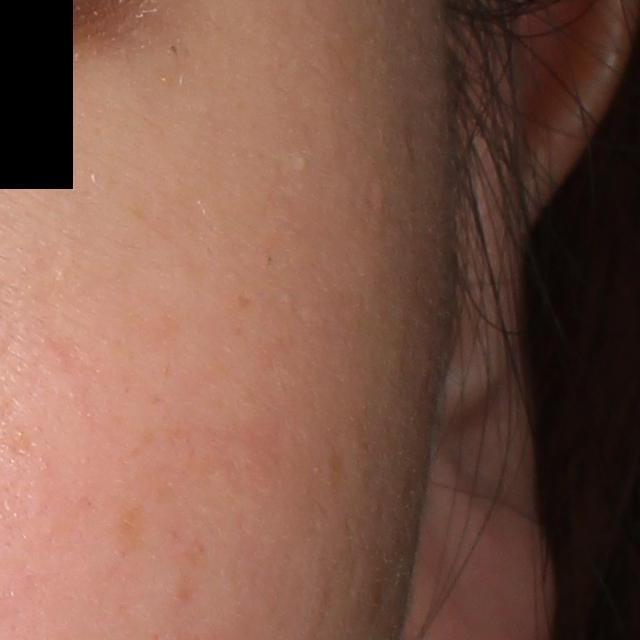melasma: (111, 500, 152, 559)
